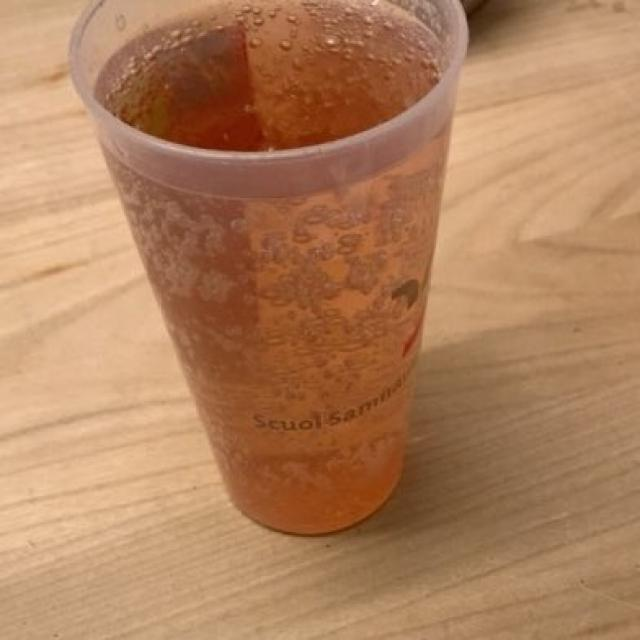syrup-diluted-ready-to-drink: (115, 7, 438, 150)
